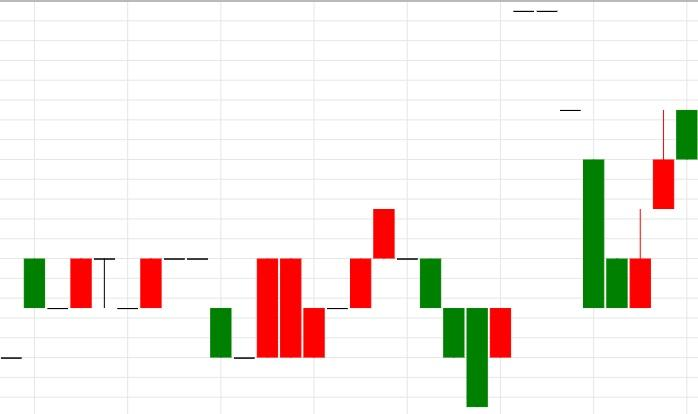morning_star_rise: (139, 258, 279, 359)
